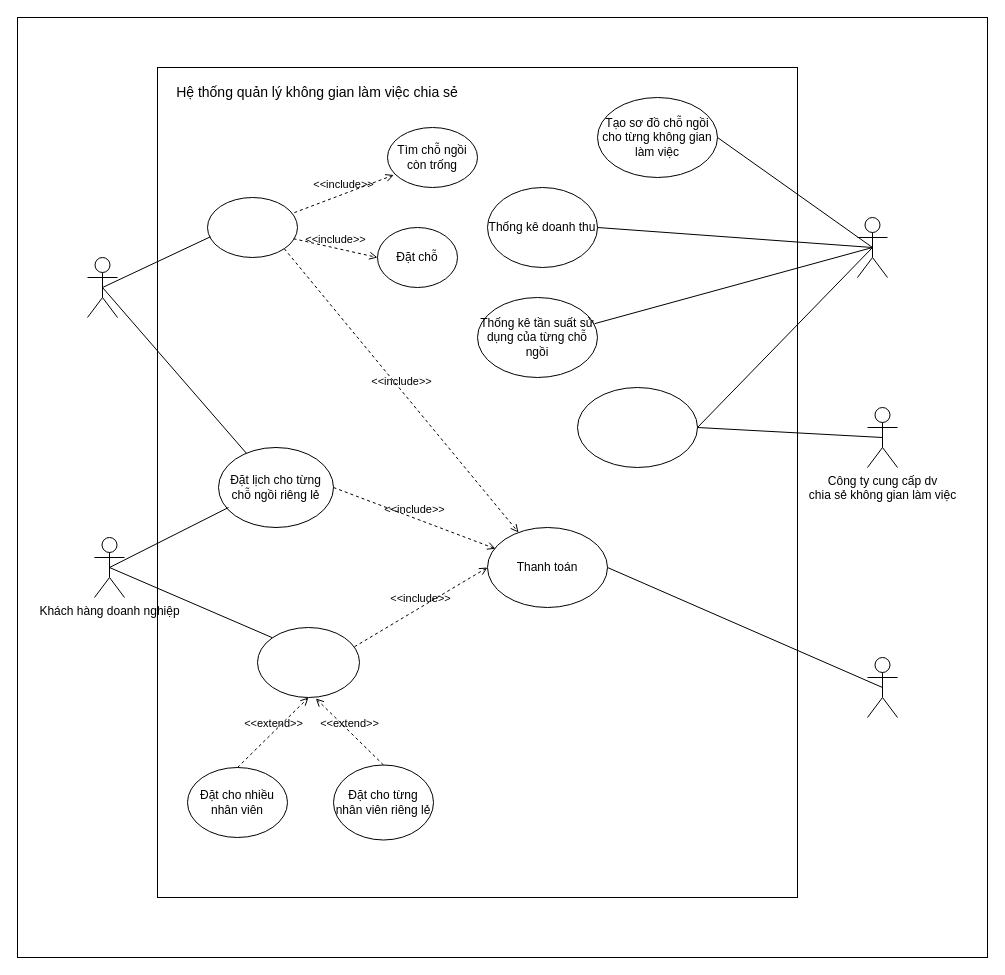
Image size: 1005x975. Some labels were removed from this diagram. The box of each missing label's shape, as (x1, y1, x2, y2) in pixels:
Cổng DV thanh toán của ngân hàng: (866, 656, 898, 718)
Khách hàng cá nhân: (86, 256, 118, 318)
Quản lí không gian làm việc: (576, 386, 698, 468)
Quản trị: (856, 216, 888, 278)
Đặt chỗ cho nhân viên: (256, 626, 360, 698)
Đặt chỗ ngồi còn trống: (206, 196, 298, 258)
